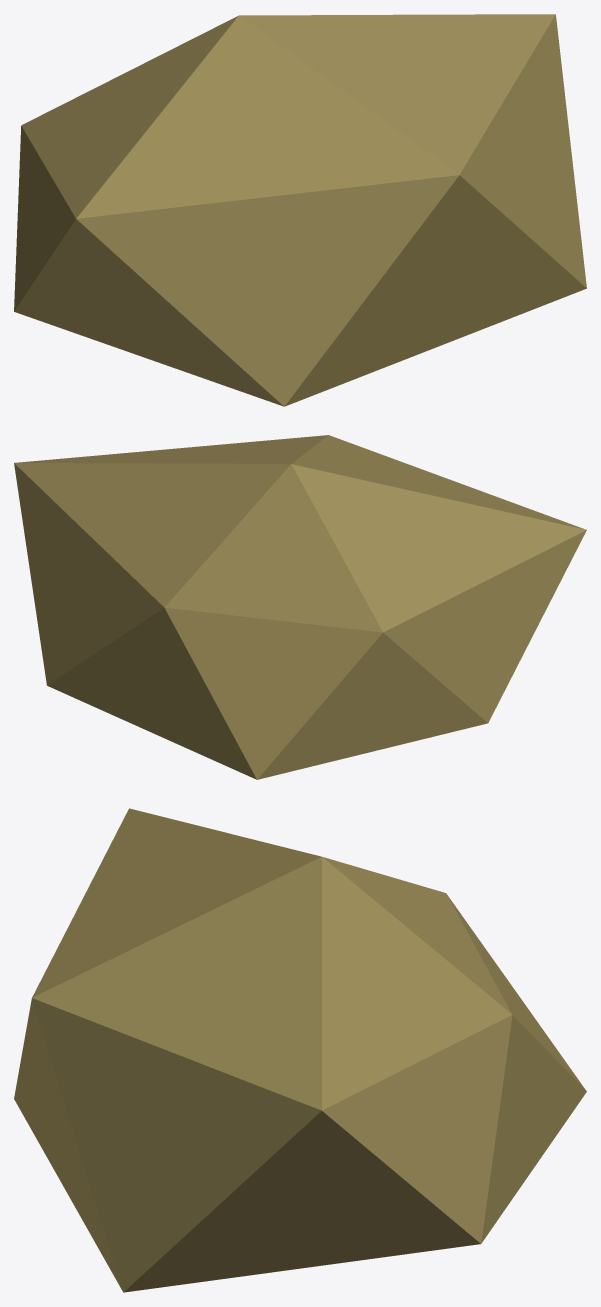
File: buske_torr_1.glb
The picture shows the model from 3 angles, top to bottom: view 1: azimuth 30°, elevation 25°; view 2: azimuth 150°, elevation 25°; view 3: azimuth 270°, elevation 25°; orthographic projection. The views are drawn at different scales.
Parts seen in each view (by area): view 1: buske_torr_1; view 2: buske_torr_1; view 3: buske_torr_1.
Part boxes in pixels (x1=…): buske_torr_1: x1=14, y1=14, x2=586, y2=406; buske_torr_1: x1=14, y1=435, x2=586, y2=779; buske_torr_1: x1=14, y1=808, x2=586, y2=1292.
Bounding box in the file's own units: 1.62 × 0.8527 × 1.28.
